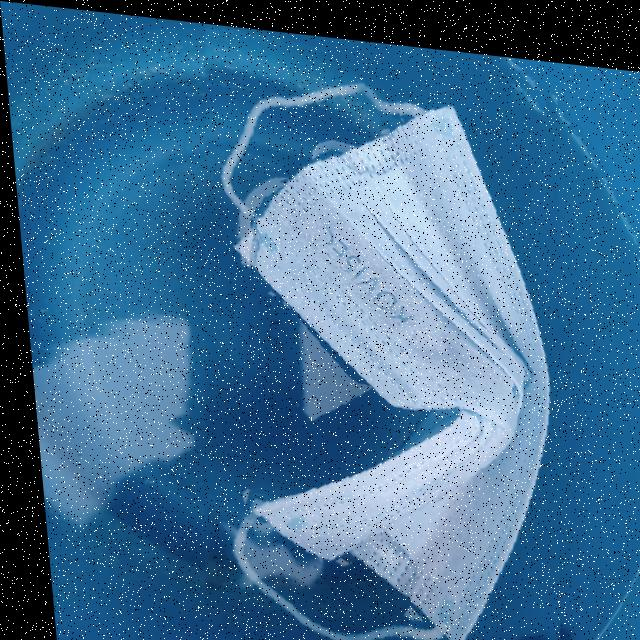litter: (166, 21, 585, 640)
